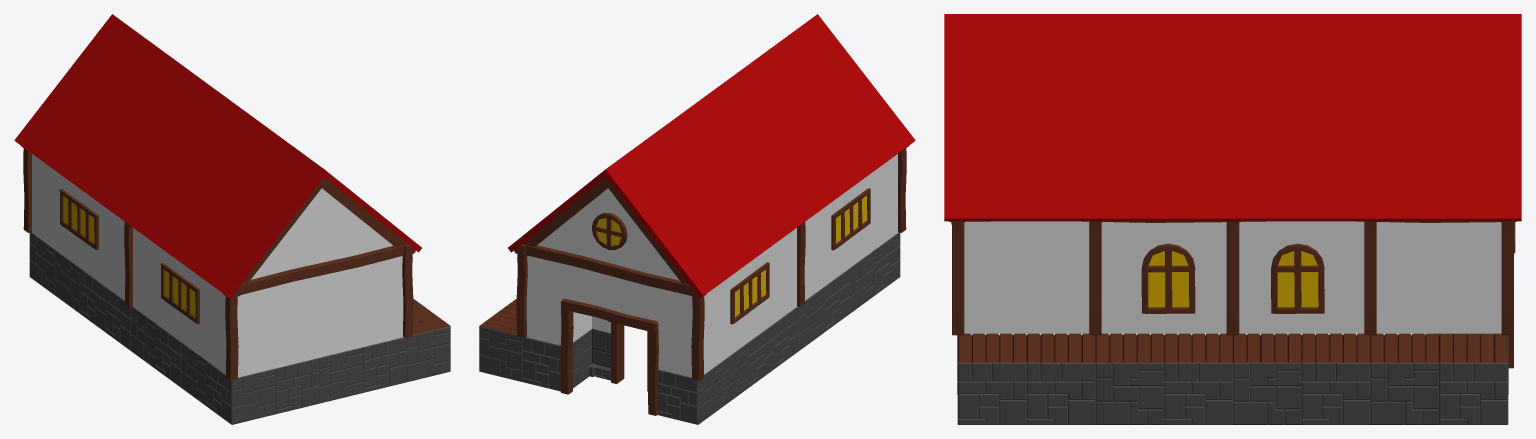
The model's file is House_Kit_1.fbx.
3 views of the same model, side by side, from view 1: azimuth 30°, elevation 25°; view 2: azimuth 150°, elevation 25°; view 3: azimuth 270°, elevation 25° (orthographic). The views are drawn at different scales.
Parts seen in each view (by area): view 1: Wall_Large2, Wall_Large1, Wall_Large, Roof_Edge2, Roof_Edge_no_3, Roof_Edge_2, Window_Large (×2), Roof_Middle1, Roof_Middle5, Roof_Middle7, Roof_Middle3, Roof_Middle4 (+31 smaller); view 2: Wall_Large, Wall_Large1, Roof_Edge_2, Roof_Edge_no1, Roof_Edge2, Window_Large (×2), Roof_Middle1, Roof_Middle4, Roof_Middle6, Roof_Middle7, Roof_Middle5, Roof_Middle3 (+42 smaller); view 3: Wall_Large4, Wall_Large3, Roof_Edge1, Roof_Edge_3, Roof_Middle8, Roof_Middle11, Roof_Middle2, Roof_Middle9, Roof_Middle10, Roof_Middle12, Roof_Edge_no_2, Roof_Edge_no2 (+29 smaller).
Part boxes in pixels (x1,y1,x2,y2): Wall_Large2: [237, 256, 403, 377]; Wall_Large1: [31, 154, 125, 300]; Wall_Large: [132, 228, 226, 374]; Roof_Edge2: [196, 203, 280, 300]; Roof_Edge_no_3: [250, 147, 324, 243]; Roof_Edge_2: [14, 70, 98, 163]; Window_Large (×2): [59, 189, 199, 324]; Roof_Middle1: [44, 93, 123, 182]; Roof_Middle5: [120, 148, 199, 236]; Roof_Middle7: [171, 185, 249, 273]; Roof_Middle3: [70, 111, 149, 200]; Roof_Middle4: [95, 130, 174, 218]; Wall_Large: [804, 154, 898, 300]; Wall_Large1: [703, 228, 797, 374]; Roof_Edge_2: [649, 203, 733, 300]; Roof_Edge_no1: [605, 147, 679, 243]; Roof_Edge2: [831, 70, 915, 163]; Window_Large (×2): [730, 188, 870, 324]; Roof_Middle1: [680, 185, 758, 273]; Roof_Middle4: [730, 148, 809, 236]; Roof_Middle6: [780, 111, 859, 200]; Roof_Middle7: [806, 93, 885, 182]; Roof_Middle5: [755, 130, 834, 218]; Roof_Middle3: [705, 167, 783, 256]; Wall_Large4: [1239, 221, 1501, 333]; Wall_Large3: [964, 221, 1226, 333]; Roof_Edge1: [1439, 105, 1521, 224]; Roof_Edge_3: [944, 105, 1026, 224]; Roof_Middle8: [1301, 105, 1370, 221]; Roof_Middle11: [1095, 105, 1164, 221]; Roof_Middle2: [1370, 105, 1438, 221]; Roof_Middle9: [1233, 105, 1301, 221]; Roof_Middle10: [1164, 105, 1232, 221]; Roof_Middle12: [1027, 105, 1095, 221]; Roof_Edge_no_2: [1439, 14, 1521, 105]; Roof_Edge_no2: [944, 14, 1026, 105].
Bounding box in the file's own units: 5.25 × 5.21 × 8.4.
